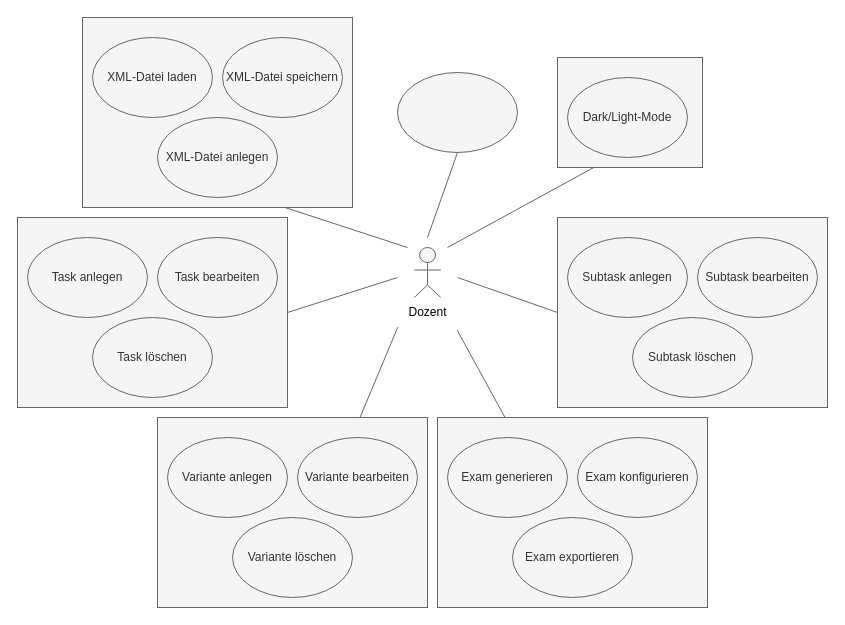
Some shapes in this 845 by 625 pixel diagram are drawn without their labels. Each missing label, with the box of its shape:
Beenden des Programms: (396, 72, 518, 152)
Darstellung & Bedienung: (556, 56, 702, 168)
Dateiverwaltung: (82, 16, 352, 208)
Examverwaltung: (436, 416, 708, 608)
Subtaskverwaltung: (556, 216, 828, 408)
Taskverwaltung: (16, 216, 288, 408)
Variantenverwaltung: (156, 416, 428, 608)
